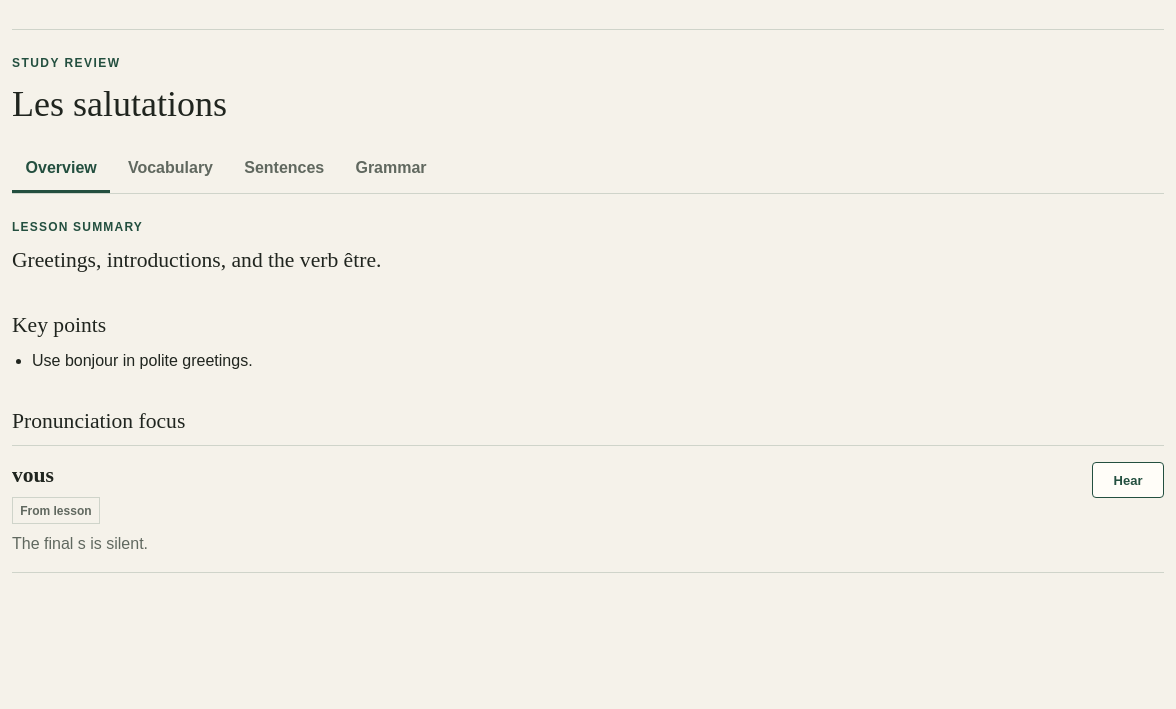
structured lesson study rendering › renders vocabulary French first with English, gender, and articles
Click the tab "Vocabulary" at (170, 169), box [114,145,227,193]
(page scrolled)
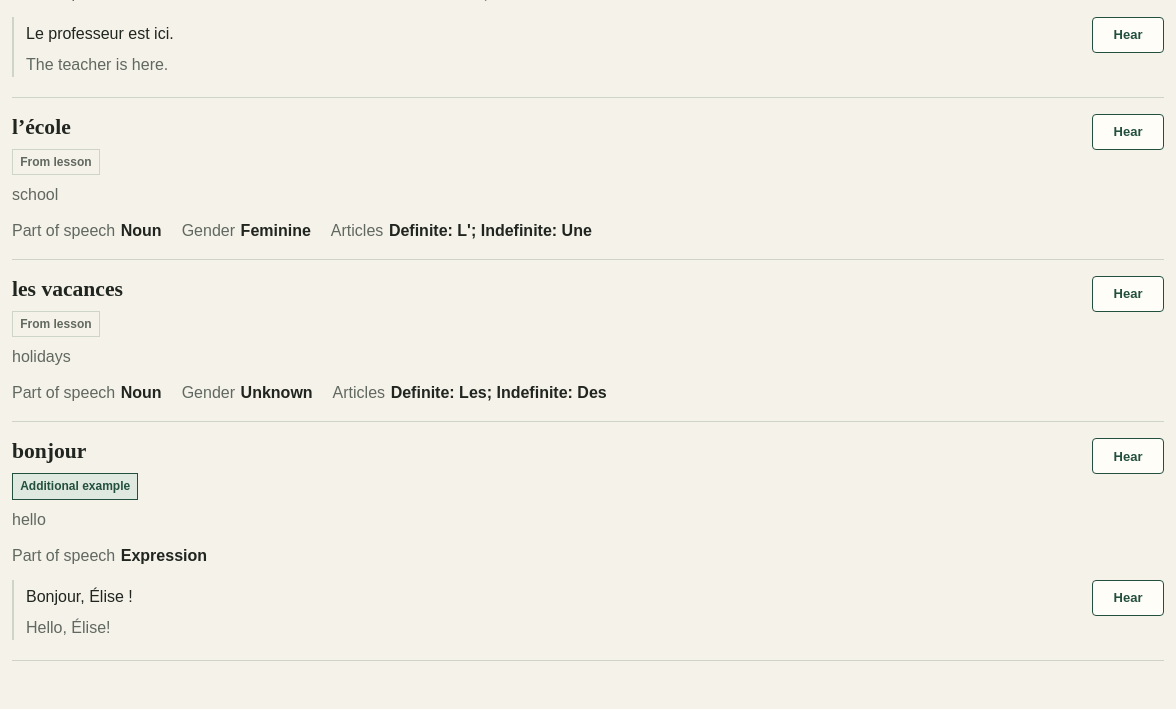
Result: the list item "l’école" is shown at [12,114,71,138]
Result: the list item "bonjour" is shown at [12,439,86,463]
Result: the list item "bonjour" shows "Additional example" at [20,479,130,493]
